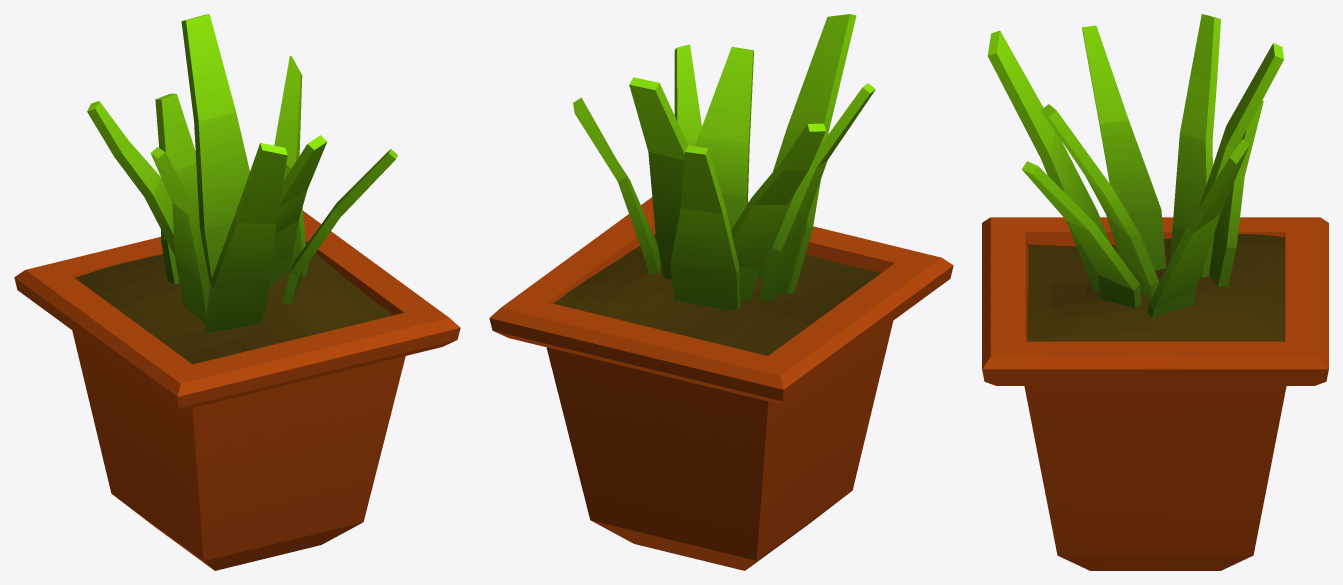
Rendered from Planta2.fbx.
3 renders of one model, left to right at view 1: azimuth 30°, elevation 25°; view 2: azimuth 150°, elevation 25°; view 3: azimuth 270°, elevation 25°, orthographic. The views are drawn at different scales.
Parts seen in each view (by area): view 1: Planta2.001; view 2: Planta2.001; view 3: Planta2.001.
Part boxes in pixels (bbox=[...]): Planta2.001: bbox=[14, 14, 460, 570]; Planta2.001: bbox=[489, 14, 953, 570]; Planta2.001: bbox=[982, 14, 1328, 570].
Size of the model in its own units: 2.5 by 3.99 by 2.5.
Materials: 1 (1 with a texture image).
